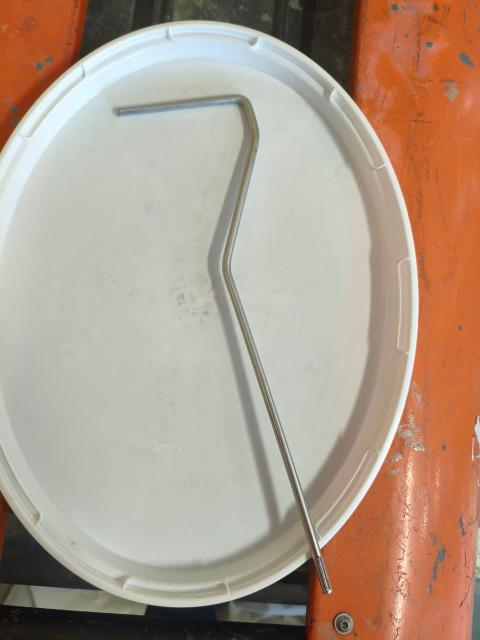Metal: (115, 88, 337, 593)
Plastik: (2, 132, 103, 565), (350, 142, 407, 432), (153, 33, 277, 80)
